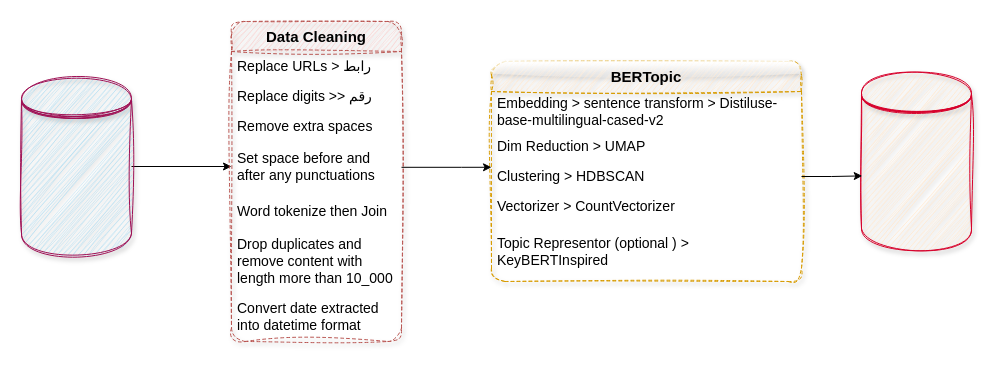
The diagram is 995 pixels wide and 366 high, and some of its shapes have lost their labels. Each missing label, with the centre of its shape:
"Structured Data" belongs at point 917,162.
"Unstructured Data" belongs at point 77,168.
